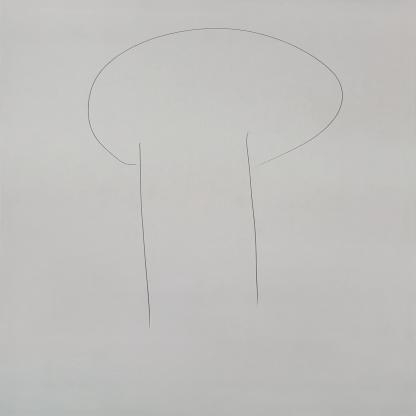crown_mushroom: (86, 28, 344, 167)
trunk_straight: (138, 168, 262, 287)
